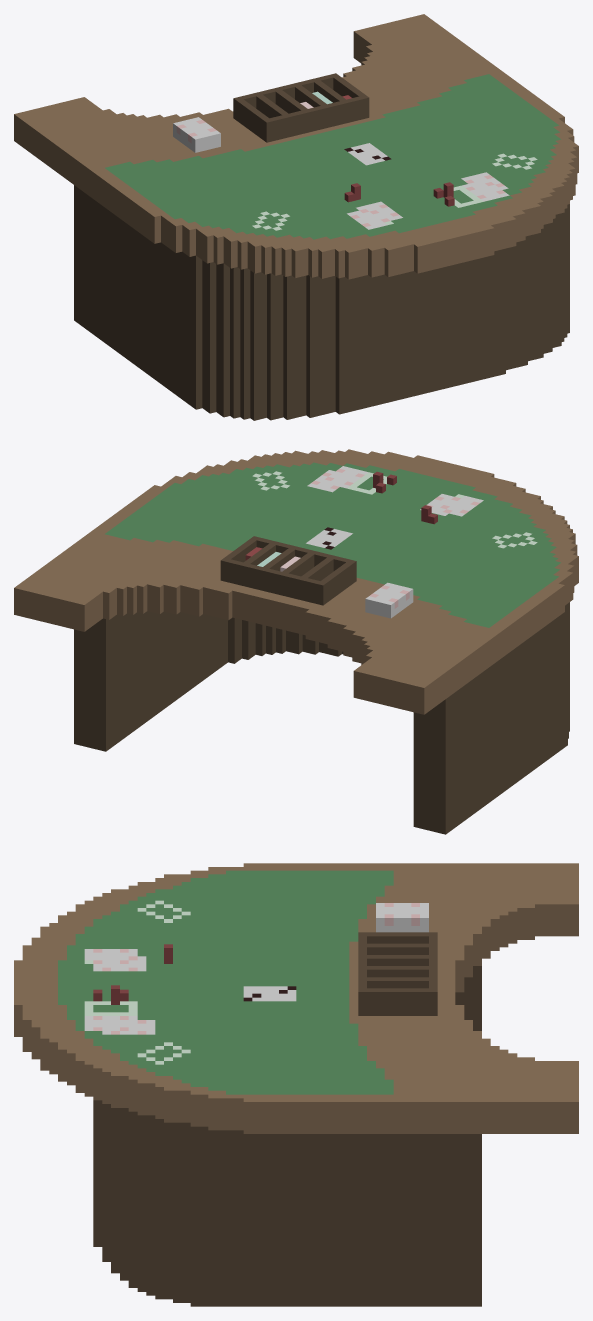
The model's file is pokerTable.fbx.
3 renders of one model, top to bottom at view 1: azimuth 30°, elevation 25°; view 2: azimuth 150°, elevation 25°; view 3: azimuth 270°, elevation 25°, orthographic. The views are drawn at different scales.
Parts seen in each view (by area): view 1: Cylinder, Box, Box_1; view 2: Cylinder, Box, Box_1; view 3: Cylinder, Box, Box_1.
Boxes of the visible parts, x1=… form: Cylinder: x1=14, y1=14, x2=578, y2=420; Box: x1=233, y1=73, x2=369, y2=142; Box_1: x1=173, y1=117, x2=220, y2=152; Cylinder: x1=14, y1=449, x2=578, y2=834; Box: x1=220, y1=536, x2=356, y2=605; Box_1: x1=365, y1=582, x2=413, y2=618; Cylinder: x1=14, y1=863, x2=578, y2=1306; Box: x1=358, y1=932, x2=437, y2=1015; Box_1: x1=376, y1=903, x2=428, y2=932.
Bounding box in the file's own units: 64 × 30 × 64.
